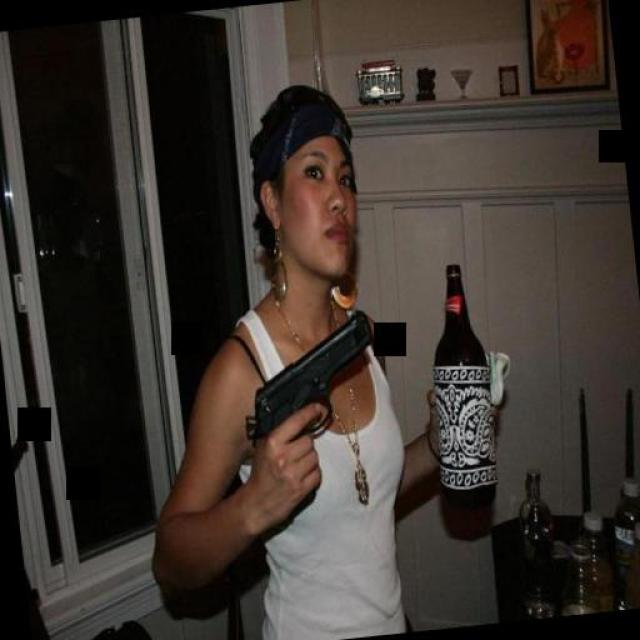gun: (238, 305, 382, 469)
